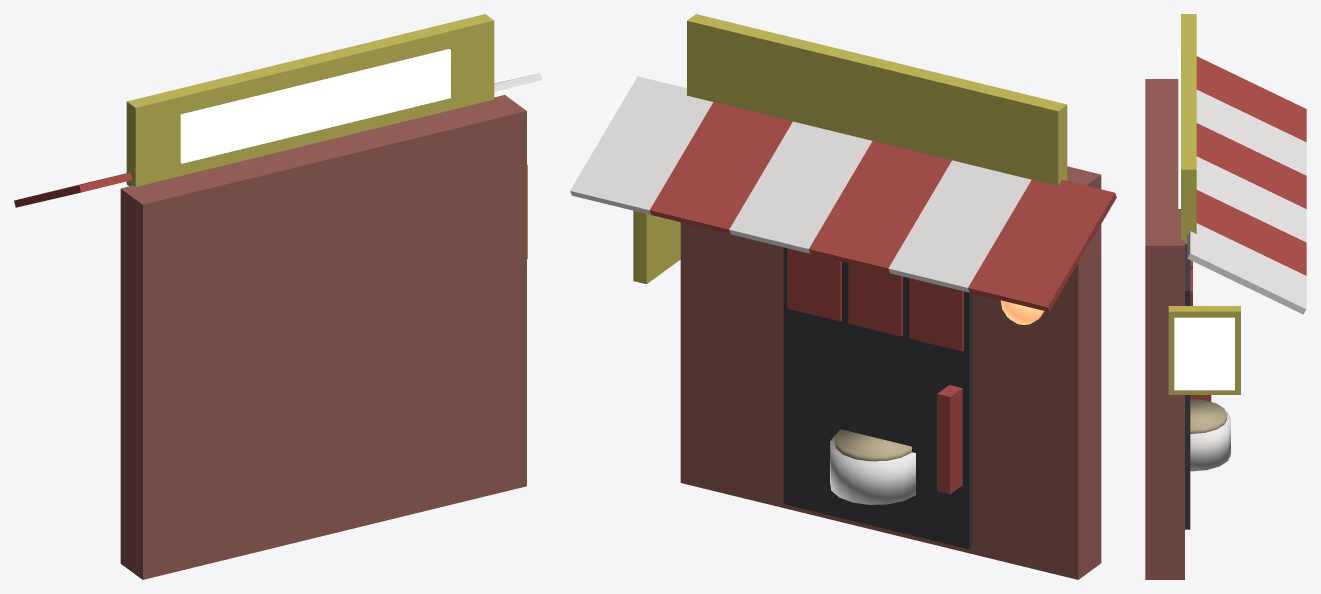
File: prop_mise_ramen.glb
3 renders of one model, left to right at view 1: azimuth 30°, elevation 25°; view 2: azimuth 150°, elevation 25°; view 3: azimuth 270°, elevation 25°, orthographic. The views are drawn at different scales.
Parts seen in each view (by area): view 1: mise_ramen; view 2: mise_ramen; view 3: mise_ramen.
Part boxes in pixels (box(x1,y1,x2,y2)): mise_ramen: box(14, 14, 541, 579); mise_ramen: box(570, 14, 1116, 579); mise_ramen: box(1145, 14, 1306, 579).
Size of the model in its own units: 3.6 by 3.39 by 1.22.
